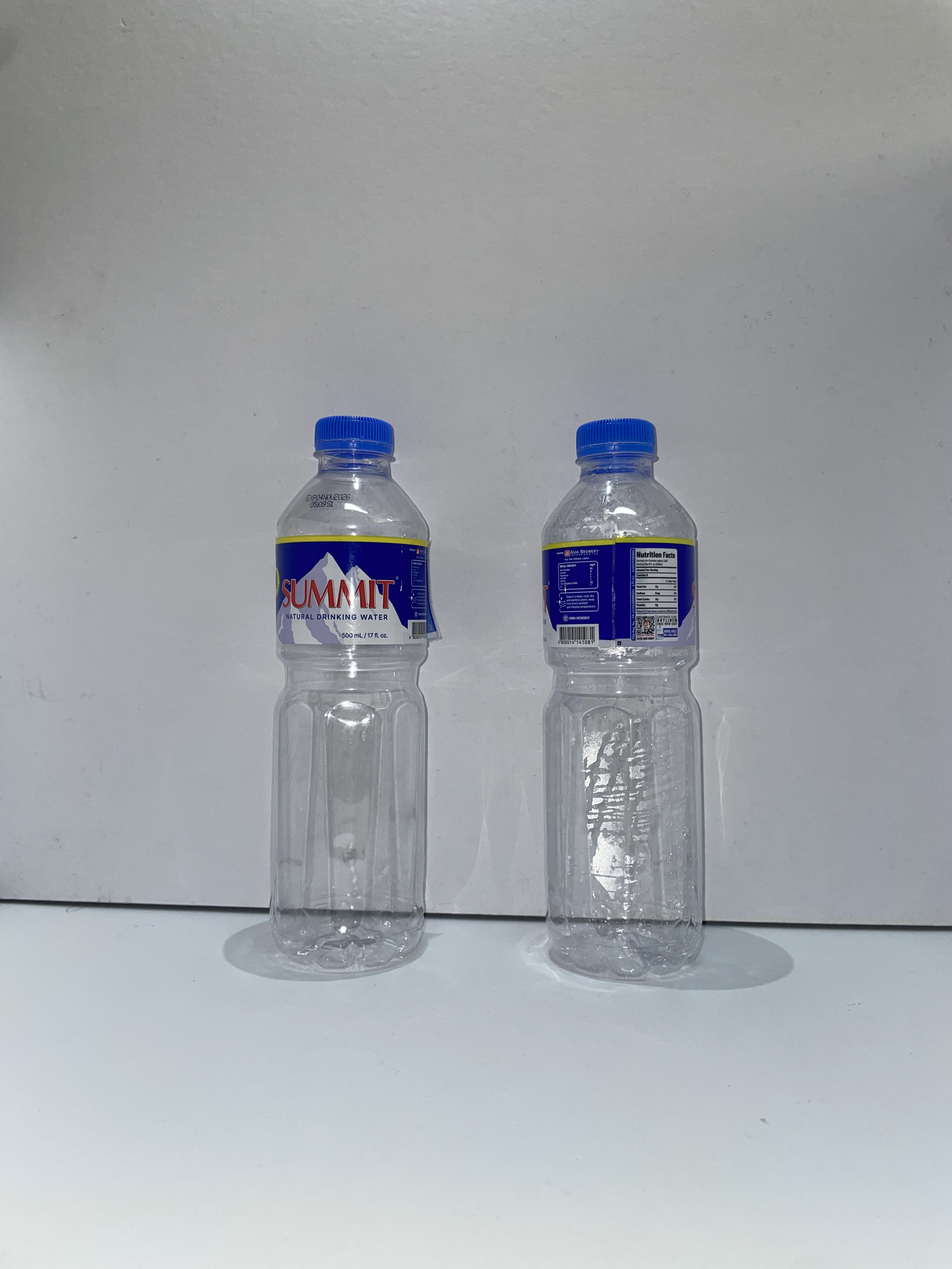Summit 500mL: (271, 416, 436, 972), (542, 418, 702, 976)
